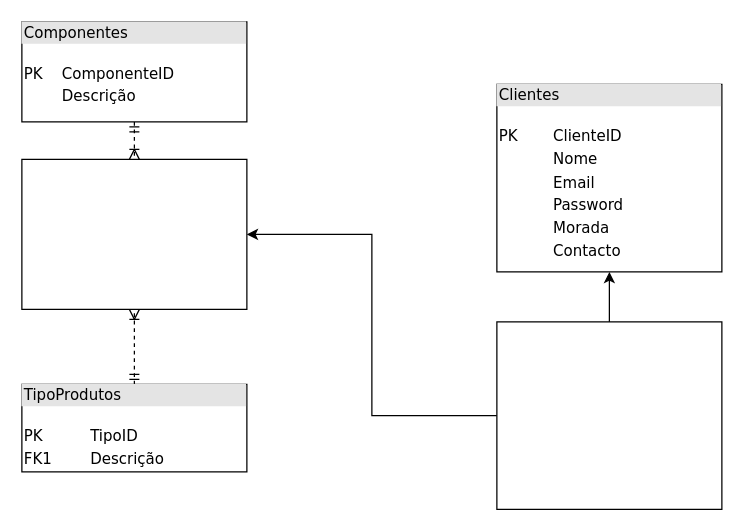
The diagram is 744 pixels wide and 531 high, and some of its shapes have lost their labels. Here are the shapes that lost their labels. From the top down, the centre of each, then its label:
(x=134, y=233): Produtos PK EquipamentoID FK1 TipoProduto FK2 Componentes Descrição
(x=609, y=415): Encomendas PK EncomendaID FK1 Cliente FK2 Produto Quantidade Estado
